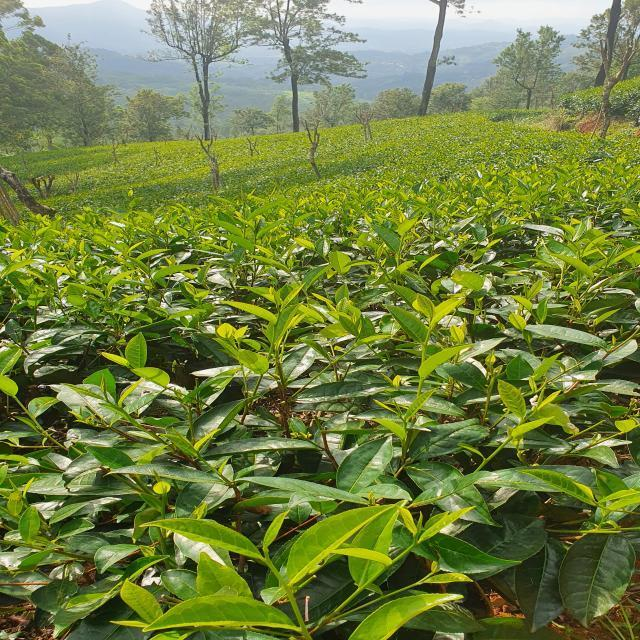Stem: (267, 560, 274, 569), (428, 327, 433, 333)
